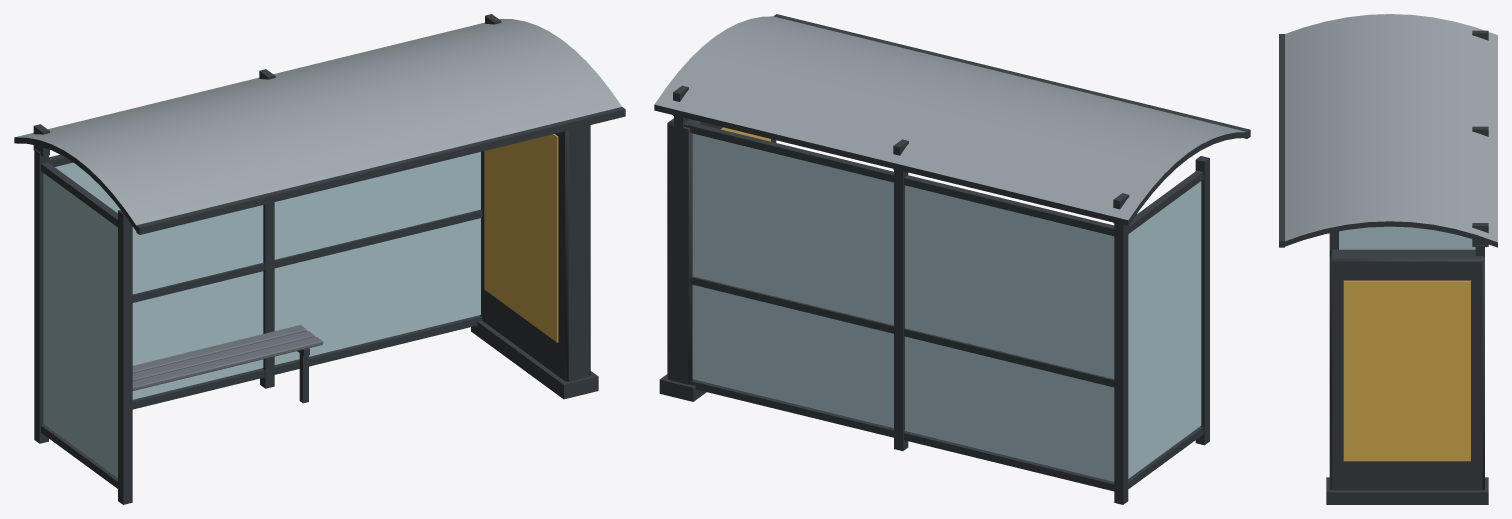
The model's file is muni_shelter.glb.
3 renders of one model, left to right at view 1: azimuth 30°, elevation 25°; view 2: azimuth 150°, elevation 25°; view 3: azimuth 270°, elevation 25°, orthographic. The views are drawn at different scales.
Parts seen in each view (by area): view 1: shelter; view 2: shelter; view 3: shelter.
Part boxes in pixels (x1=…): shelter: x1=14, y1=14, x2=625, y2=504; shelter: x1=654, y1=14, x2=1250, y2=504; shelter: x1=1279, y1=14, x2=1497, y2=504.
Bounding box in the file's own units: 4.2 × 2.68 × 1.88.
